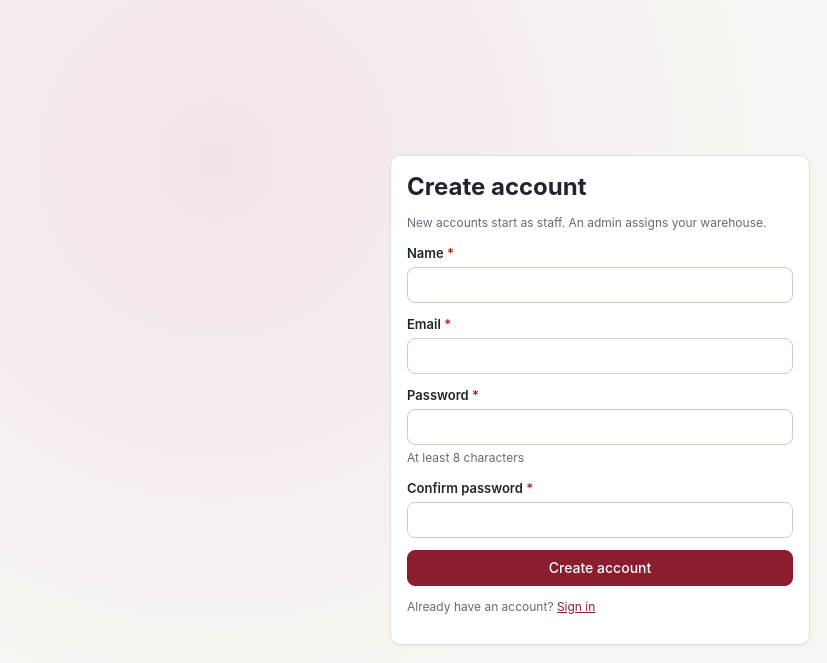
Test: Register form validation › disables the button and shows Saving... while submitting
The width and height of the screenshot is (827, 663).
In the field labelled "Name *": {"x": 600, "y": 285} [407,267,793,303], type "Priya"
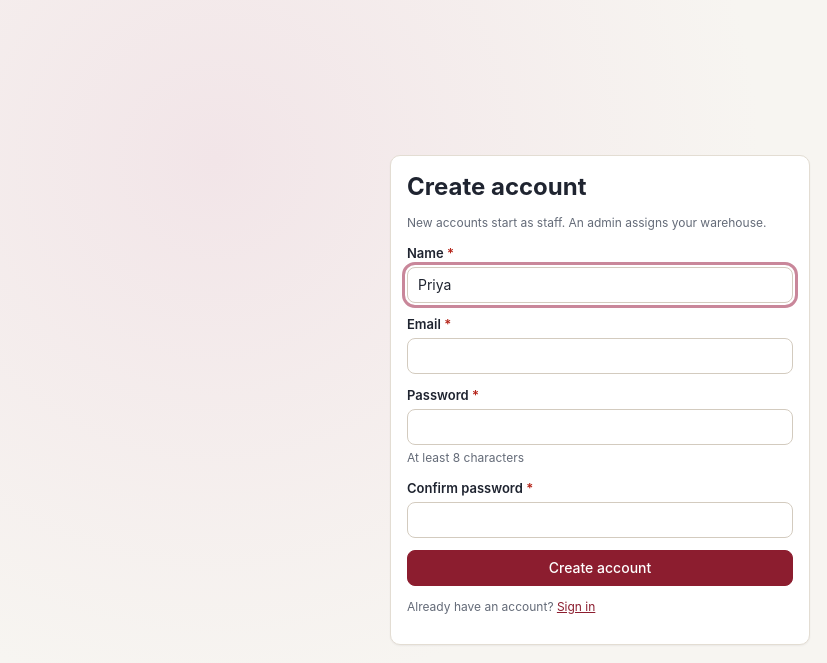
In the field labelled "Email *": {"x": 600, "y": 356} [407,338,793,374], type "priya@example.com"
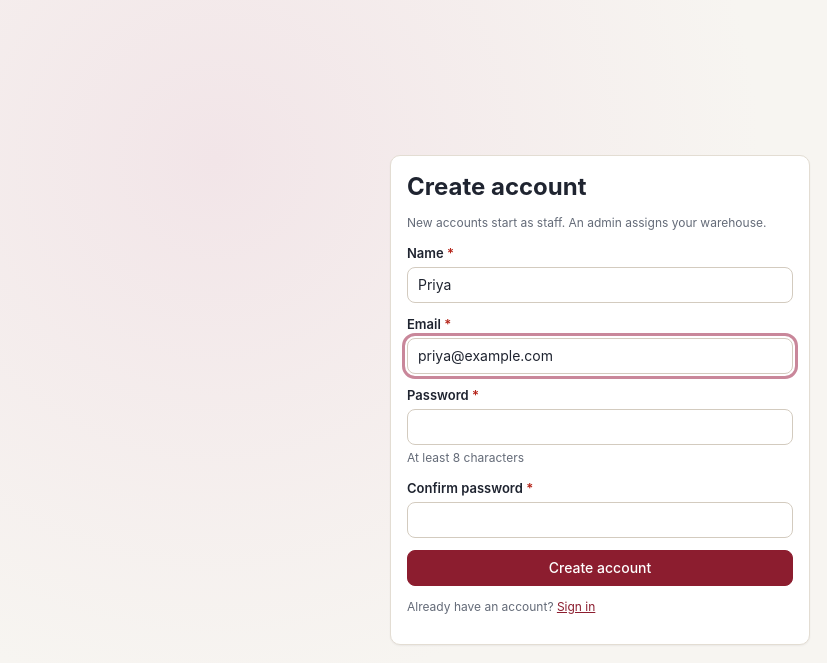
In the password field labelled "Password *": {"x": 600, "y": 427} [407,409,793,445], type "longenough1"
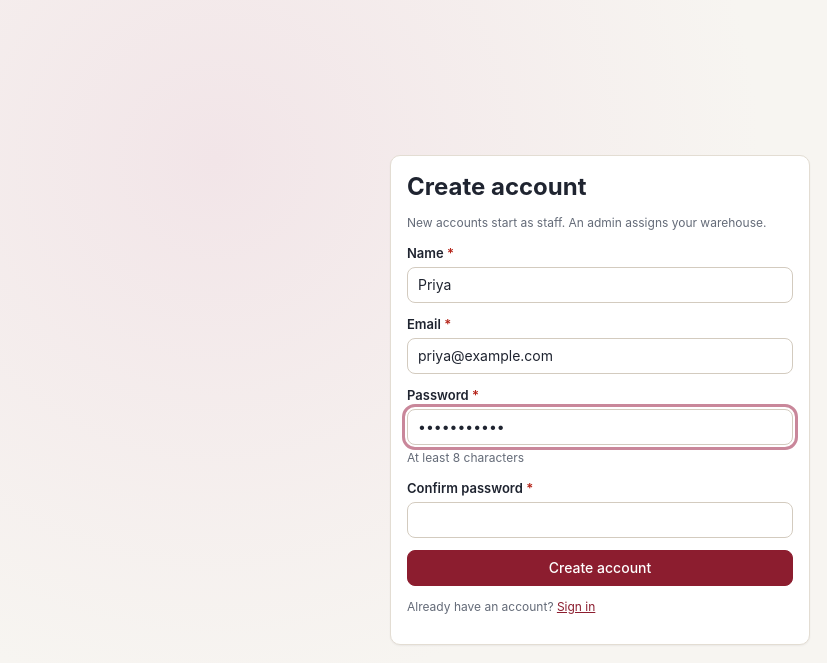
In the password field labelled "Confirm password *": {"x": 600, "y": 520} [407,502,793,538], type "longenough1"
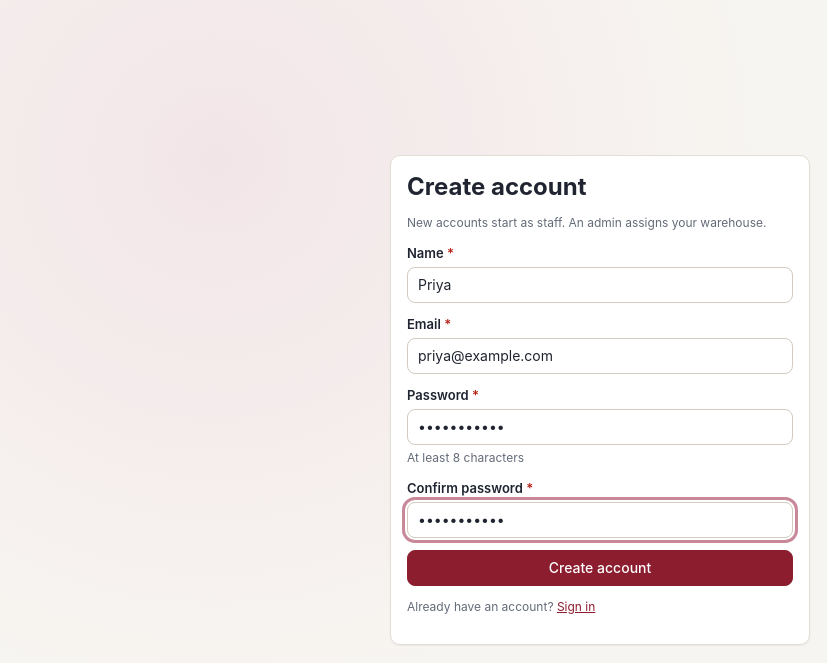
Click the button "Create account": {"x": 600, "y": 568} [407,550,793,586]
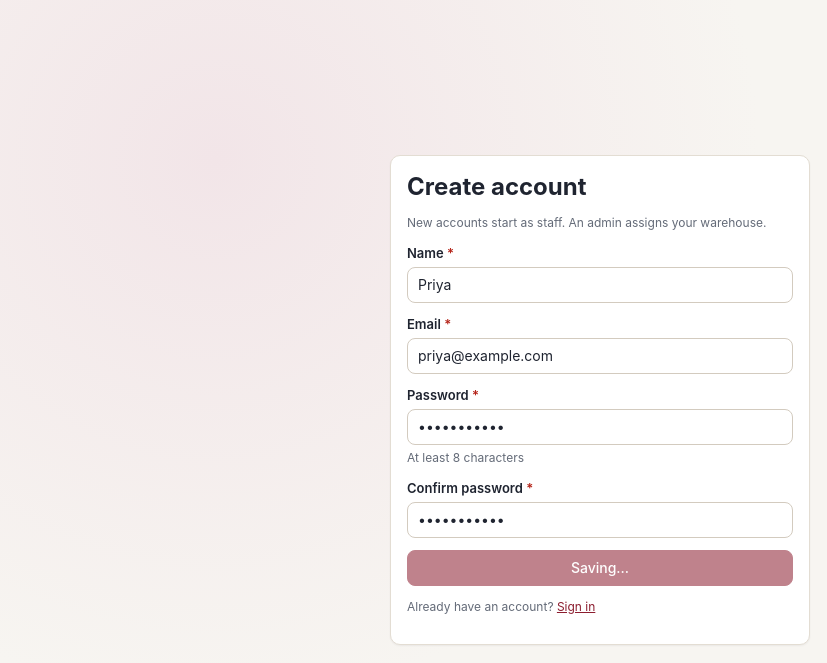
Now the button "Saving..." is disabled, box [407,550,793,586]
